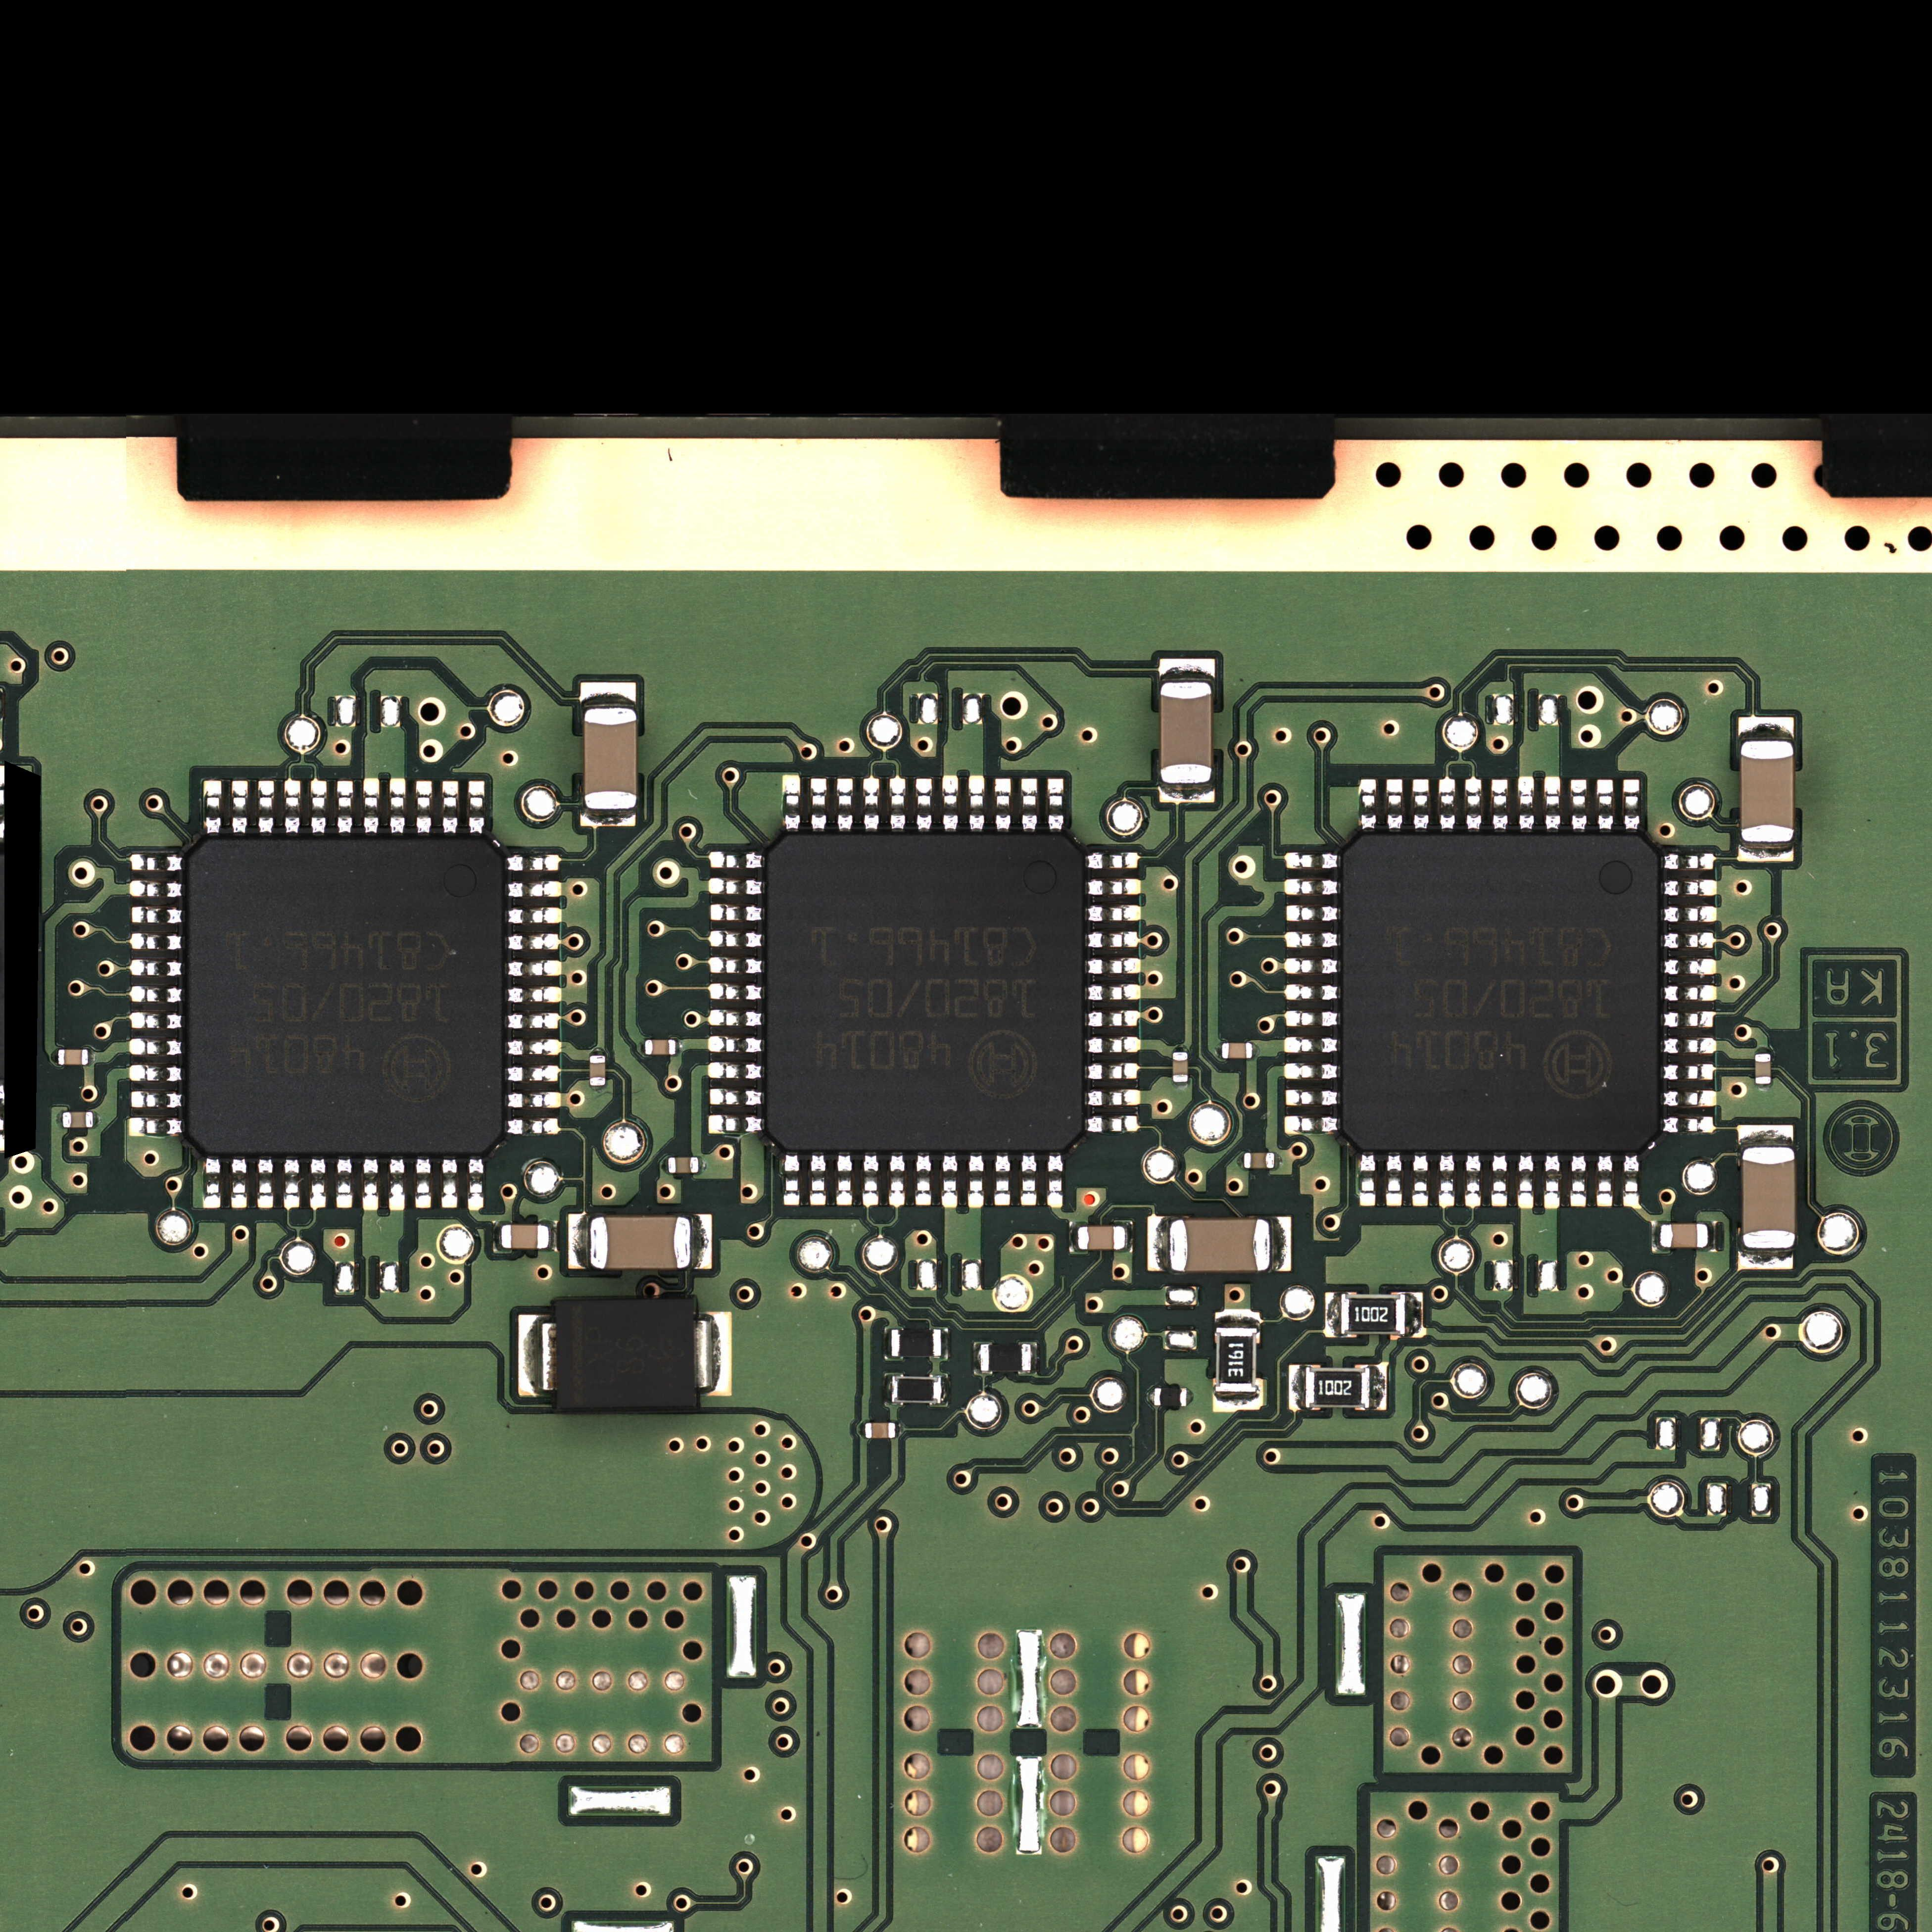Package: (1339, 833, 1661, 1154), (184, 837, 504, 1157), (764, 833, 1085, 1154), (556, 1299, 697, 1410), (589, 1217, 692, 1269), (1168, 1219, 1270, 1270), (584, 709, 637, 809), (1161, 683, 1212, 784), (1741, 741, 1792, 842), (1743, 1148, 1794, 1249), (1215, 1327, 1256, 1392), (1306, 1368, 1369, 1408), (1341, 1293, 1405, 1334), (980, 1345, 1031, 1371), (892, 1376, 941, 1403), (892, 1330, 941, 1357), (501, 1224, 548, 1249), (1077, 1226, 1125, 1249), (1661, 1224, 1707, 1247), (1154, 1389, 1187, 1407), (62, 1111, 94, 1127), (865, 1422, 895, 1438), (669, 1157, 699, 1173), (1173, 1053, 1189, 1083), (58, 1049, 88, 1065), (1244, 1152, 1274, 1168), (1755, 1054, 1771, 1085), (1223, 1042, 1253, 1058), (589, 1056, 605, 1086), (646, 1040, 676, 1054)
Solder: (518, 1315, 554, 1396), (697, 1313, 731, 1396), (580, 683, 635, 708), (1739, 717, 1794, 741), (1161, 658, 1214, 683), (1737, 1249, 1794, 1270), (1146, 1215, 1168, 1272), (1737, 1125, 1794, 1146), (568, 1214, 589, 1269), (1270, 1217, 1292, 1272), (1737, 842, 1794, 862), (692, 1214, 711, 1270), (708, 1115, 764, 1134), (782, 775, 801, 832), (708, 1035, 763, 1054), (708, 1062, 763, 1081), (1159, 784, 1214, 803), (129, 1116, 184, 1136), (1284, 1115, 1339, 1134), (1284, 878, 1338, 897), (506, 932, 559, 952), (129, 932, 182, 952), (1086, 1115, 1139, 1134), (506, 908, 563, 925), (363, 778, 380, 835), (310, 778, 327, 835), (131, 906, 182, 925), (1283, 1037, 1338, 1054), (506, 855, 561, 872), (1284, 984, 1339, 1001), (1284, 931, 1339, 948), (708, 878, 763, 895), (1284, 853, 1339, 870), (1086, 1037, 1141, 1054), (1086, 1090, 1141, 1108), (915, 1152, 932, 1207), (1284, 957, 1339, 975), (1661, 853, 1716, 870), (1283, 1063, 1338, 1081), (708, 1010, 763, 1028), (1086, 879, 1141, 897), (1284, 1010, 1339, 1028), (1438, 777, 1456, 832), (506, 1118, 561, 1136), (506, 881, 561, 899), (203, 780, 221, 835), (1596, 1154, 1614, 1208), (1359, 1152, 1376, 1207), (336, 780, 354, 835), (1086, 957, 1141, 975), (1622, 1154, 1640, 1208), (1663, 1037, 1716, 1054), (1663, 879, 1716, 897), (131, 855, 184, 872), (129, 1039, 182, 1056), (1663, 1090, 1716, 1108), (129, 1065, 182, 1083), (1622, 778, 1640, 832), (1412, 778, 1430, 832), (129, 881, 182, 899), (709, 1088, 763, 1106), (709, 931, 763, 948), (508, 1012, 561, 1030), (709, 984, 763, 1001), (129, 1012, 182, 1030), (709, 851, 763, 869), (1663, 932, 1716, 950), (506, 1065, 559, 1083), (129, 985, 182, 1003), (129, 959, 182, 977), (508, 1039, 561, 1056), (1385, 1154, 1403, 1207), (1088, 984, 1141, 1001), (1663, 906, 1716, 924), (1086, 931, 1139, 948), (1663, 1010, 1716, 1028), (508, 1092, 561, 1109), (1663, 959, 1716, 977), (1086, 853, 1139, 870), (1086, 1063, 1139, 1081), (1086, 1010, 1139, 1028), (709, 957, 763, 975), (709, 904, 763, 922), (1661, 1116, 1714, 1134), (203, 1155, 221, 1208), (888, 1154, 906, 1207), (1214, 1392, 1261, 1412), (131, 1092, 182, 1109), (441, 1157, 458, 1208), (1359, 778, 1376, 830), (283, 1157, 301, 1208), (1663, 1063, 1714, 1081), (968, 775, 984, 832), (389, 778, 405, 835), (943, 775, 959, 832), (285, 778, 301, 835), (890, 775, 906, 832), (1284, 1090, 1339, 1106), (508, 961, 563, 977), (863, 777, 879, 832), (580, 810, 635, 826), (442, 780, 458, 835), (508, 987, 563, 1003), (1545, 777, 1560, 832), (1545, 1154, 1560, 1208), (469, 780, 485, 835), (1518, 777, 1534, 832), (232, 780, 248, 835), (1086, 906, 1141, 922), (1465, 777, 1481, 832), (1465, 1154, 1481, 1208), (968, 1154, 984, 1208), (1518, 1154, 1534, 1208), (416, 780, 432, 835), (1438, 1154, 1454, 1208), (258, 780, 274, 835), (941, 1154, 957, 1208), (1047, 1154, 1063, 1208), (1021, 778, 1037, 832), (810, 778, 826, 832), (810, 1154, 826, 1207), (1663, 985, 1716, 1001), (916, 778, 932, 832), (389, 1157, 405, 1210), (1598, 778, 1614, 832), (467, 1157, 483, 1210), (363, 1157, 379, 1210), (863, 1154, 879, 1207), (1286, 906, 1339, 922), (1021, 1154, 1037, 1207), (1387, 778, 1403, 832), (1491, 1154, 1507, 1207), (837, 778, 853, 832), (1491, 778, 1507, 832), (994, 778, 1010, 832), (1047, 778, 1063, 832), (310, 1157, 326, 1210), (994, 1154, 1010, 1207), (1412, 1154, 1428, 1207), (1571, 1154, 1587, 1207), (837, 1154, 853, 1207), (1571, 780, 1587, 832), (336, 1157, 352, 1208), (232, 1157, 248, 1208), (258, 1157, 274, 1208), (784, 1154, 800, 1205), (416, 1157, 432, 1208), (1288, 1366, 1306, 1410), (1407, 1292, 1422, 1338), (1371, 1364, 1387, 1410), (1325, 1293, 1341, 1338), (1215, 1311, 1260, 1327), (492, 1221, 501, 1253), (1069, 1223, 1077, 1253), (1707, 1221, 1716, 1251), (548, 1221, 557, 1251), (1652, 1223, 1661, 1253), (1125, 1221, 1134, 1251), (941, 1373, 948, 1405), (973, 1343, 980, 1373), (941, 1329, 948, 1359), (885, 1329, 892, 1359), (885, 1375, 892, 1403), (1031, 1343, 1037, 1375), (1274, 1154, 1283, 1169), (94, 1111, 101, 1129), (1187, 1389, 1194, 1407), (51, 1049, 58, 1065), (1253, 1042, 1260, 1058), (1215, 1042, 1223, 1058), (1755, 1047, 1771, 1054), (88, 1049, 96, 1065), (589, 1049, 605, 1056), (662, 1157, 669, 1173), (699, 1157, 706, 1173), (55, 1111, 62, 1127), (1755, 1085, 1771, 1092), (1148, 1387, 1154, 1407), (639, 1040, 646, 1054), (1173, 1046, 1187, 1053), (858, 1422, 865, 1437), (1237, 1154, 1244, 1168), (589, 1086, 607, 1092), (895, 1422, 901, 1438), (1173, 1083, 1189, 1088), (676, 1039, 681, 1054)
